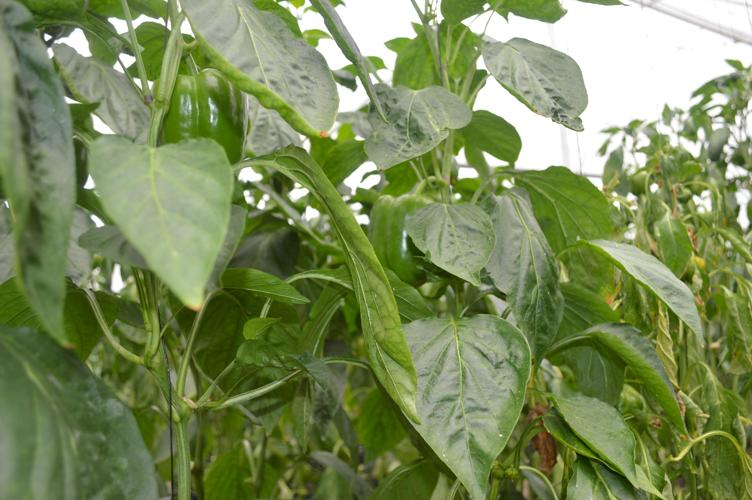BellPepper: (352, 187, 435, 283), (170, 66, 247, 161)
